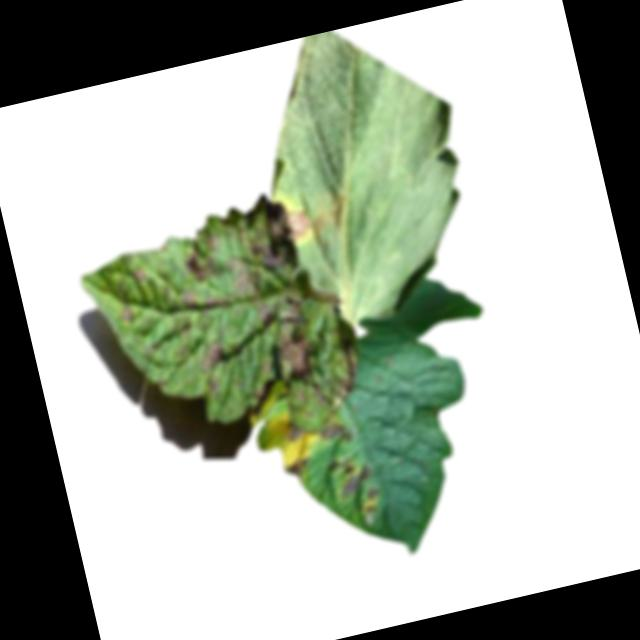Early_blight: (177, 191, 301, 304), (267, 282, 367, 416), (326, 450, 387, 526), (192, 339, 239, 399), (283, 206, 314, 245), (319, 417, 355, 447), (280, 455, 315, 483), (281, 419, 308, 449), (116, 305, 139, 328), (180, 291, 197, 313), (129, 268, 146, 286)
